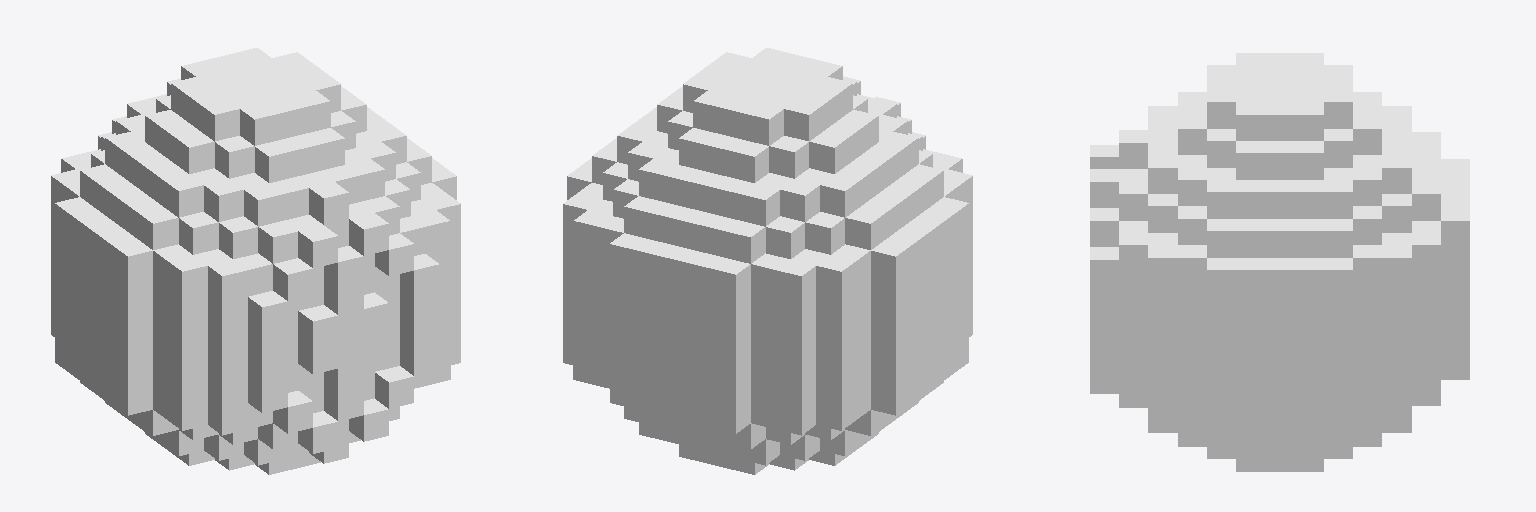
Rendered from ojoenemy.obj.
3 renders of one model, left to right at view 1: azimuth 30°, elevation 25°; view 2: azimuth 150°, elevation 25°; view 3: azimuth 270°, elevation 25°, orthographic.
Visible parts, largest first — view 1: object 1; view 2: object 1; view 3: object 1.
Boxes of the visible parts, x1,y1,x2,y2 form: object 1: [51, 48, 460, 474]; object 1: [563, 48, 972, 474]; object 1: [1090, 53, 1469, 471].
Size of the model in its own units: 1.3 by 1.3 by 1.3.